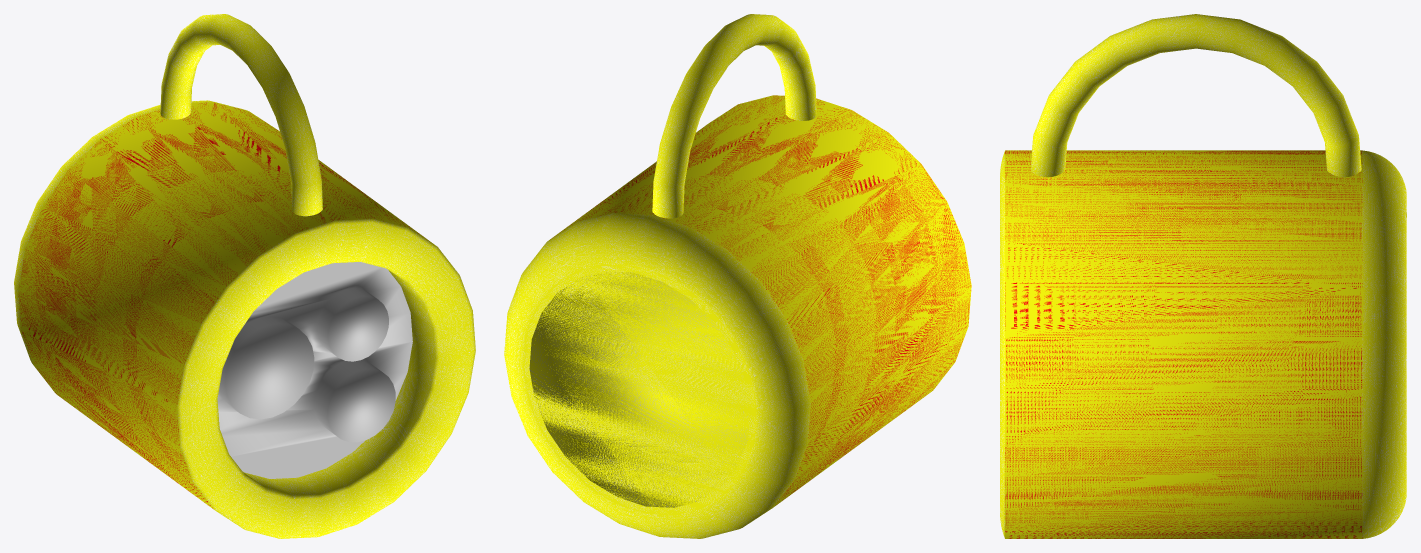
File: model_scale.obj
3 views of the same model, side by side, from view 1: azimuth 30°, elevation 25°; view 2: azimuth 150°, elevation 25°; view 3: azimuth 270°, elevation 25° (orthographic). The views are drawn at different scales.
Parts seen in each view (by area): view 1: mesh1_mesh1-geometry, mesh2_mesh2-geometry; view 2: mesh1_mesh1-geometry, mesh2_mesh2-geometry; view 3: mesh1_mesh1-geometry, mesh2_mesh2-geometry.
Part boxes in pixels (<box>): mesh1_mesh1-geometry: <box>14,100,475,538</box>; mesh2_mesh2-geometry: <box>160,14,322,216</box>; mesh1_mesh1-geometry: <box>504,95,971,538</box>; mesh2_mesh2-geometry: <box>652,14,816,218</box>; mesh1_mesh1-geometry: <box>1000,150,1406,538</box>; mesh2_mesh2-geometry: <box>1030,14,1361,177</box>.
Size of the model in its own units: 0.0787 by 0.113 by 0.0825.
